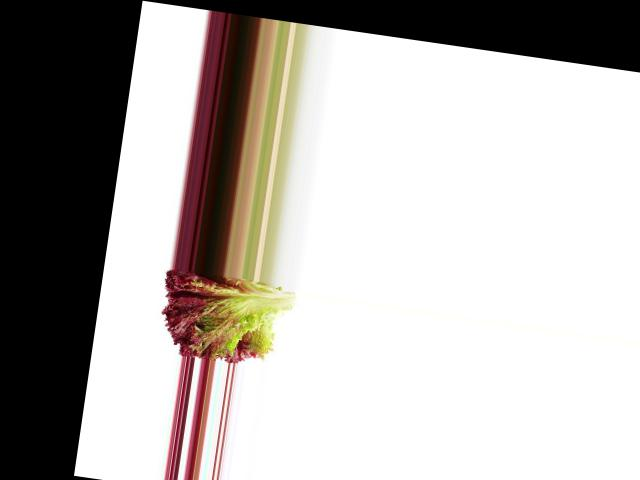lettuce: (147, 267, 301, 369)
